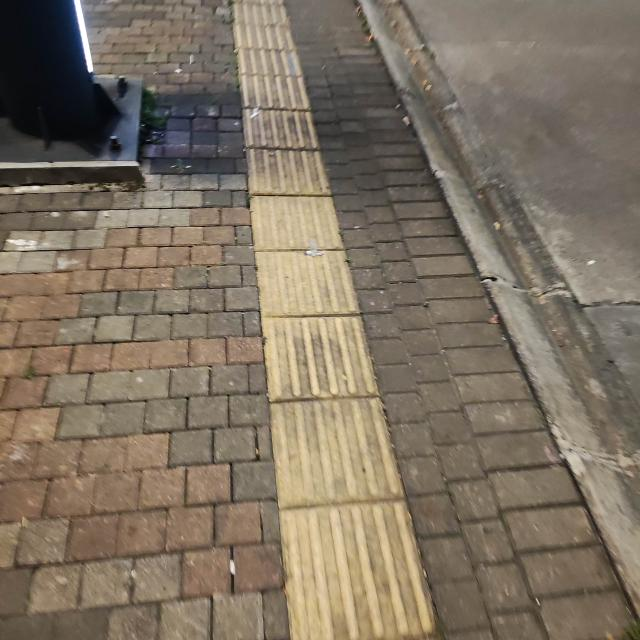lurus: (226, 33, 414, 640)
